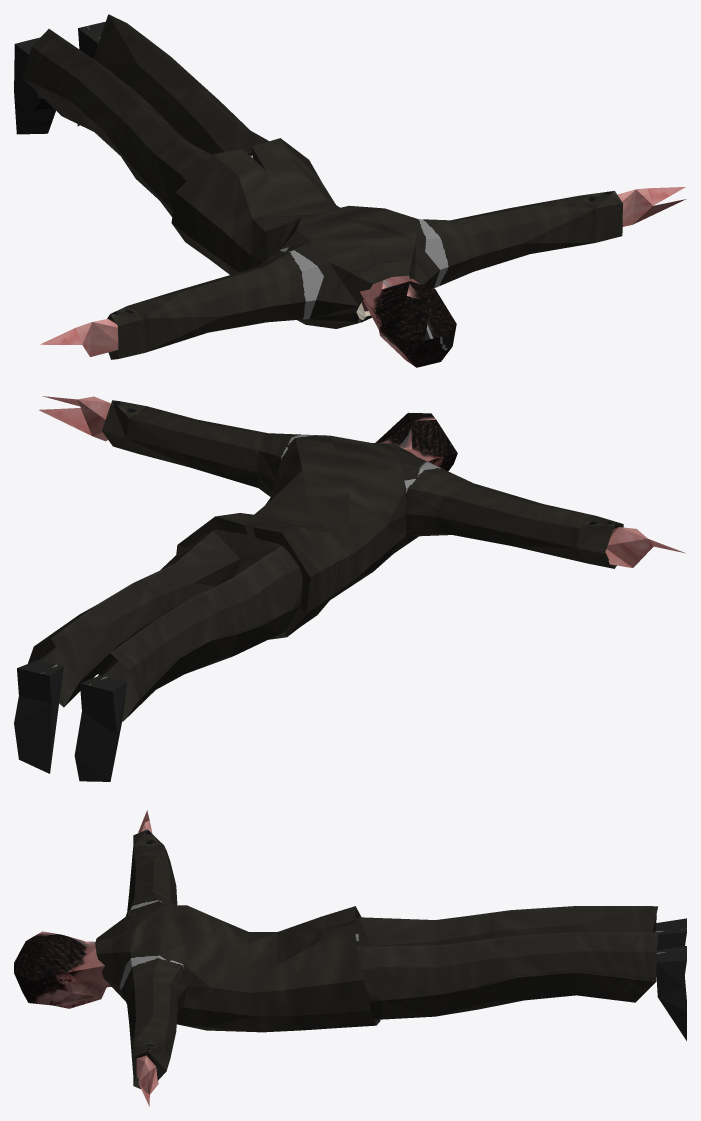
The model's file is tomdrinman3_3klow_wtf.obj.
3 renders of one model, top to bottom at view 1: azimuth 30°, elevation 25°; view 2: azimuth 150°, elevation 25°; view 3: azimuth 270°, elevation 25°, orthographic. The views are drawn at different scales.
Parts seen in each view (by area): view 1: group1; view 2: group1; view 3: group1.
Boxes of the visible parts, <box> form: group1: <box>14,14,686,367</box>; group1: <box>14,396,685,781</box>; group1: <box>14,810,686,1106</box>.
Size of the model in its own units: 660 by 117 by 659.
